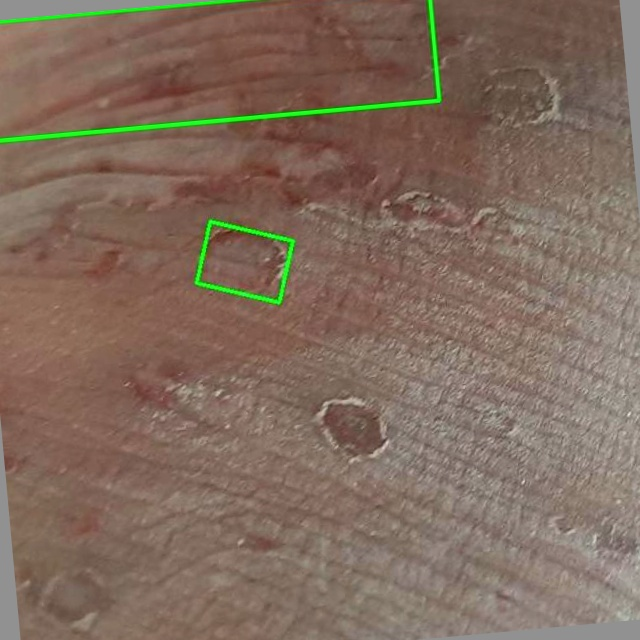Contact Dermatitis: (0, 0, 439, 140), (196, 221, 293, 301)
